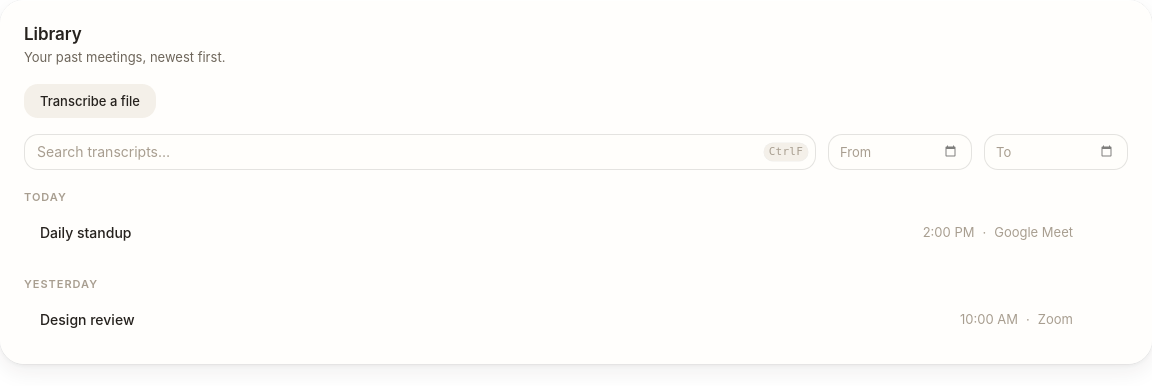
Test case: Library › shows a no-matches state when search returns nothing
Check: the element with test id "library-group-today" is shown, box top-left (24, 190), bottom-right (1128, 252)
Type "nope" into the search field with test id "library-search" at (420, 152), box top-left (24, 134), bottom-right (816, 170)
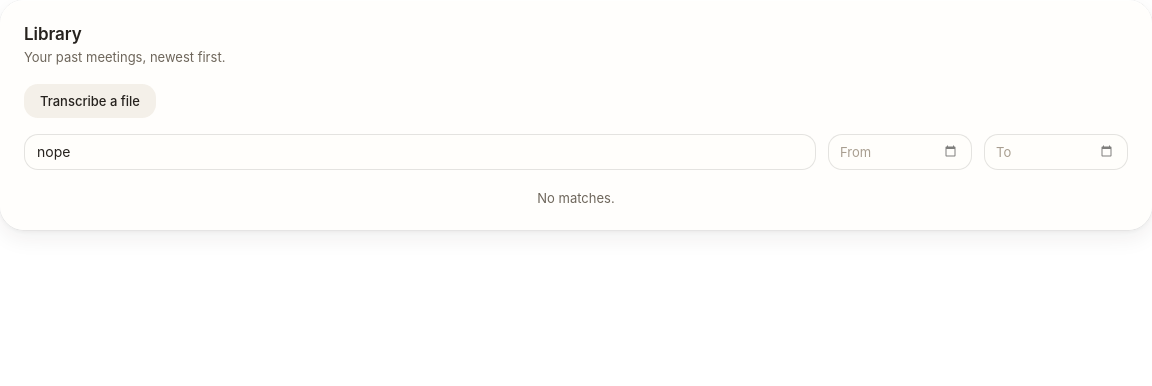
Check: the text "No matches." is shown, box top-left (537, 190), bottom-right (615, 206)
